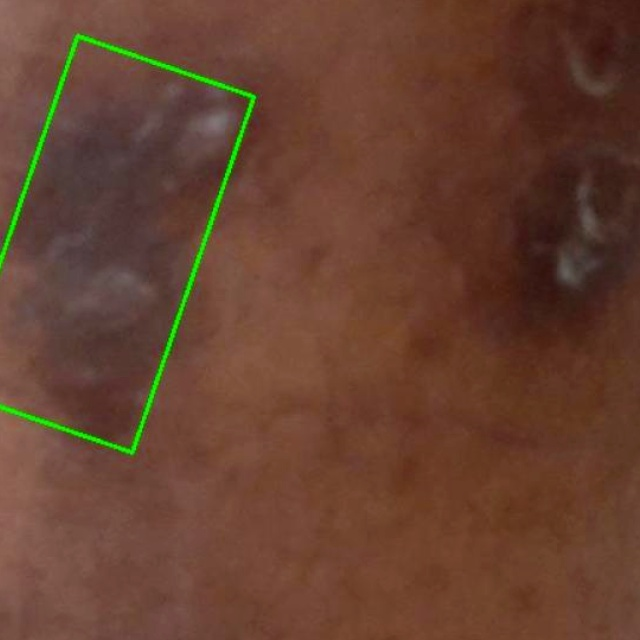Eczema: (0, 36, 255, 452)
